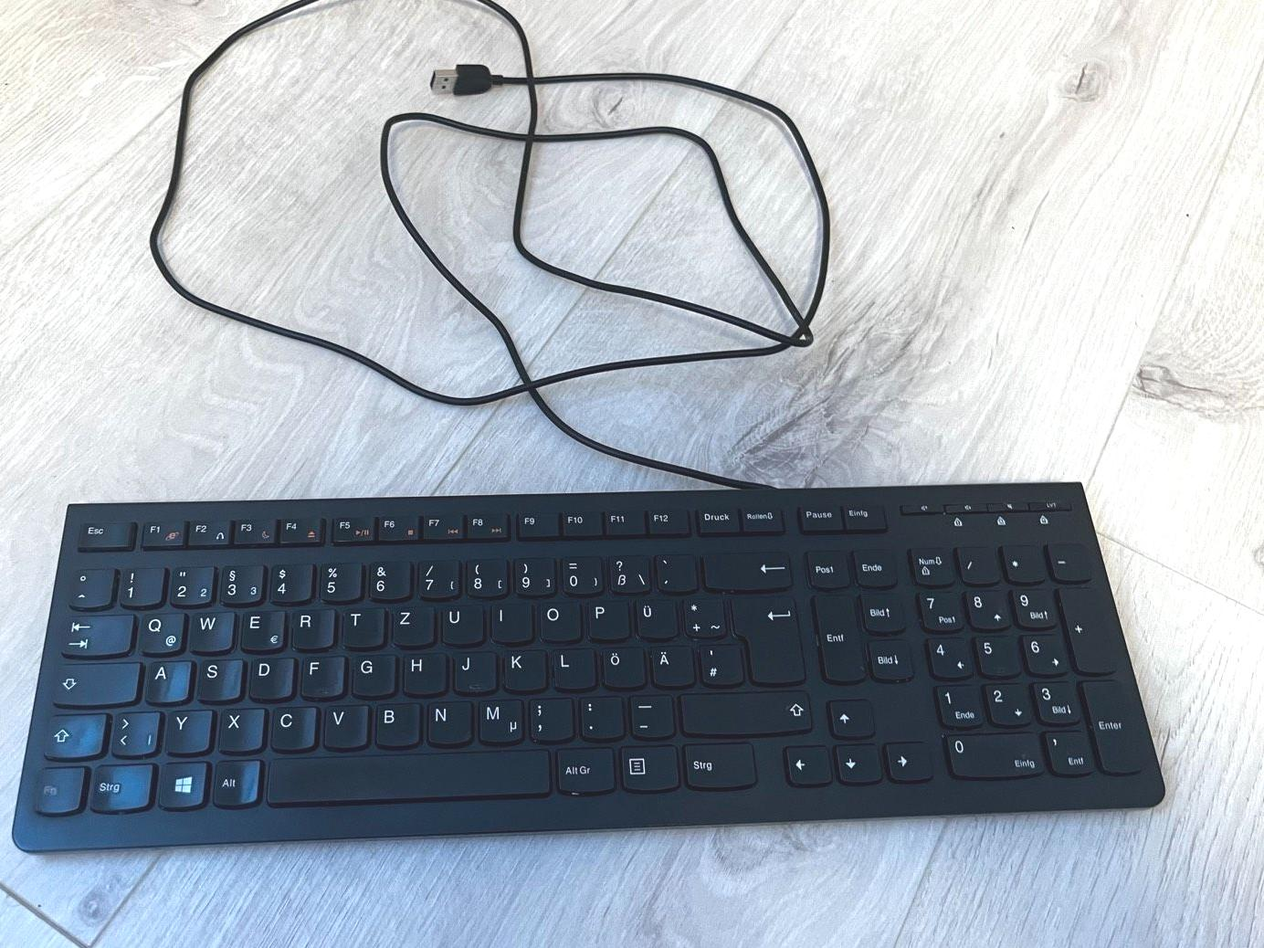0: (557, 552, 601, 594)
1: (117, 564, 162, 605)
2: (167, 562, 212, 603)
3: (216, 560, 263, 603)
4: (268, 559, 311, 601)
5: (316, 558, 360, 599)
6: (364, 556, 409, 598)
7: (416, 555, 458, 596)
8: (463, 554, 506, 596)
9: (511, 553, 553, 595)
a: (142, 657, 189, 700)
accent: (653, 551, 695, 591)
ae: (648, 642, 693, 686)
alt-left: (209, 756, 259, 804)
altgr-right: (552, 743, 613, 792)
b: (372, 700, 418, 745)
c: (267, 702, 314, 748)
caret: (64, 564, 111, 605)
comma: (527, 695, 572, 740)
d: (246, 654, 291, 697)
del: (700, 548, 791, 588)
e: (238, 606, 283, 649)
enter: (730, 595, 802, 683)
f: (298, 652, 342, 695)
g: (349, 651, 394, 694)
h: (399, 649, 445, 692)
hash: (697, 639, 742, 684)
i: (489, 599, 531, 641)
j: (451, 648, 495, 691)
k: (500, 648, 545, 690)
keyboard: (5, 476, 1175, 850)
l: (550, 645, 594, 688)
less: (109, 707, 159, 753)
m: (475, 696, 521, 743)
minus: (626, 691, 672, 736)
n: (424, 698, 470, 743)
o: (535, 597, 578, 639)
oe: (599, 644, 644, 687)
p: (585, 596, 627, 638)
plus: (680, 593, 724, 637)
point: (576, 693, 623, 738)
q: (135, 608, 183, 652)
r: (288, 605, 333, 647)
s: (193, 655, 240, 699)
shift-left: (39, 710, 103, 756)
shift-lock: (49, 658, 138, 704)
shift-right: (677, 688, 810, 732)
space: (264, 748, 551, 801)
ss: (606, 552, 648, 592)
strg-left: (85, 760, 153, 809)
strg-right: (680, 739, 755, 787)
t: (341, 604, 382, 645)
tab: (59, 611, 131, 654)
u: (438, 601, 482, 643)
ue: (633, 595, 676, 637)
v: (320, 700, 366, 746)
w: (186, 606, 232, 649)
x: (216, 704, 263, 749)
y: (163, 706, 210, 752)
z: (390, 604, 433, 645)
